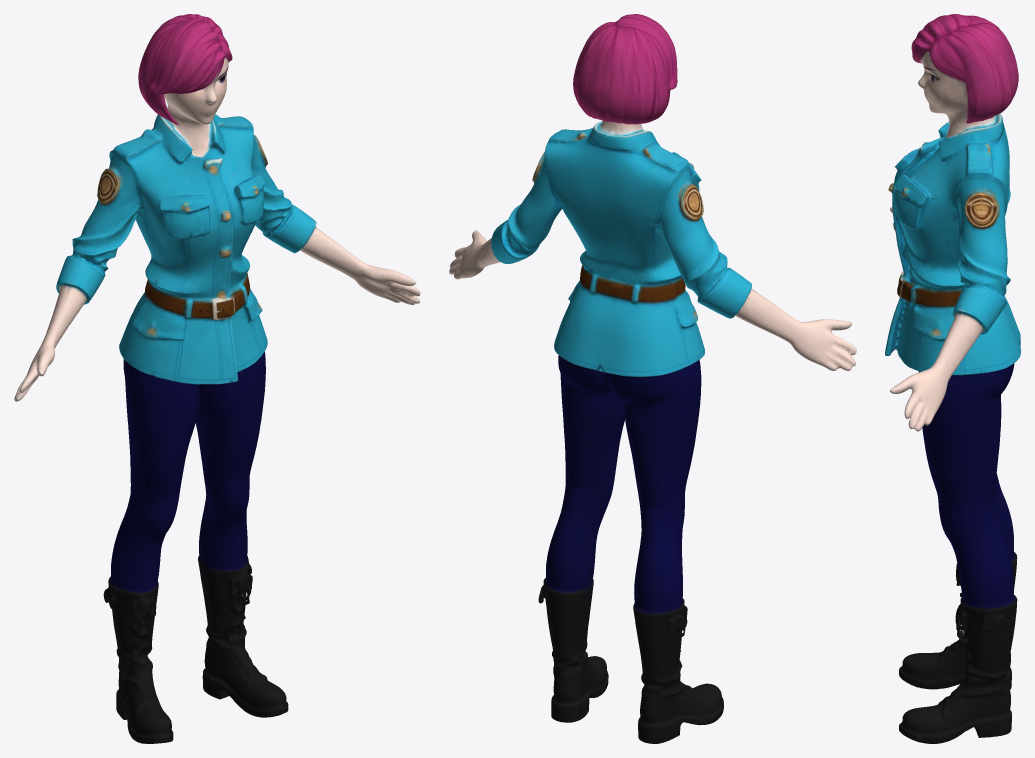
File: kaida.fbx
3 renders of one model, left to right at view 1: azimuth 30°, elevation 25°; view 2: azimuth 150°, elevation 25°; view 3: azimuth 270°, elevation 25°, orthographic.
Parts seen in each view (by area): view 1: mesh_node; view 2: mesh_node; view 3: mesh_node.
Part boxes in pixels (box(x1,y1,x2,y2)): mesh_node: box(14, 14, 420, 743); mesh_node: box(449, 14, 856, 743); mesh_node: box(885, 14, 1020, 743).
Size of the model in its own units: 116 by 190 by 33.82.
Materials: 1 (1 with a texture image).
